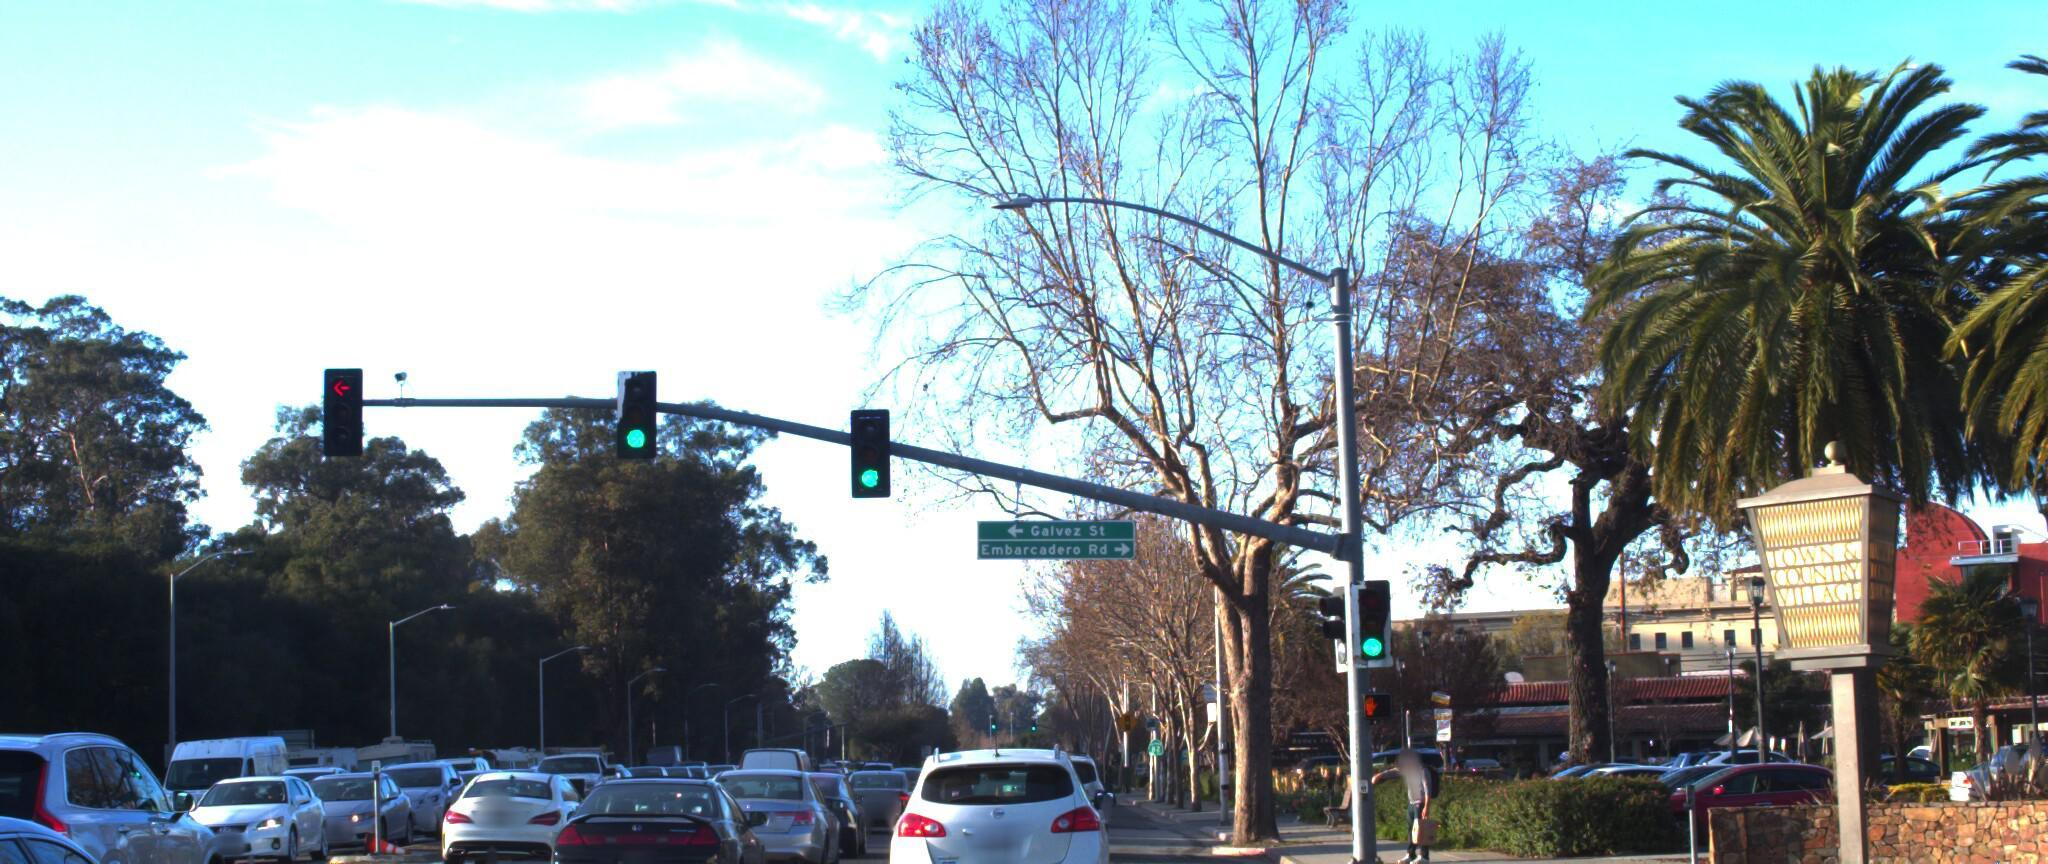car: (0, 703, 243, 864), (878, 720, 1119, 864), (1603, 736, 1902, 842), (0, 773, 313, 864), (555, 744, 777, 864), (439, 730, 594, 861), (679, 737, 840, 864), (165, 757, 333, 860), (161, 717, 300, 831), (276, 749, 418, 846), (347, 736, 479, 837), (517, 724, 624, 813), (833, 741, 920, 817)
